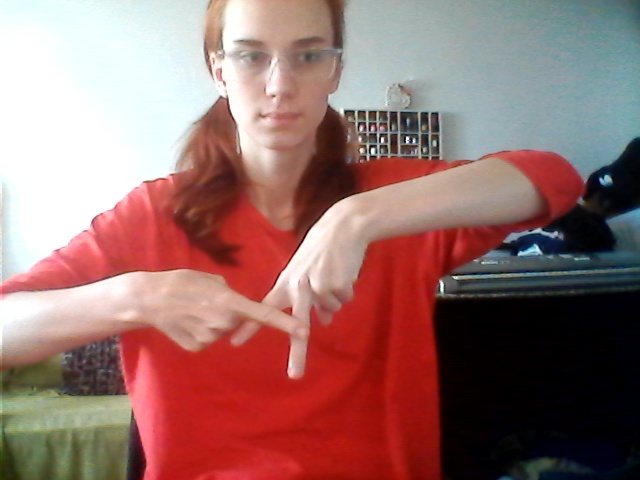a: (148, 238, 374, 392)
